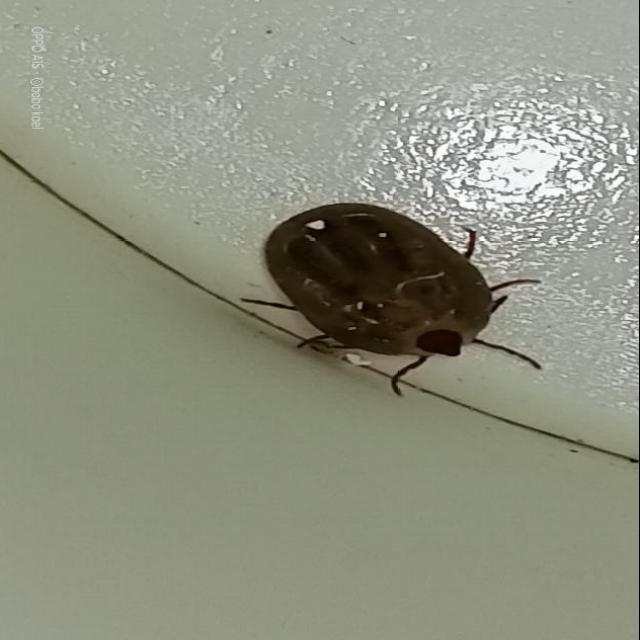Rhipicephalus Sanguineus-F-Fed: (233, 203, 561, 400)
